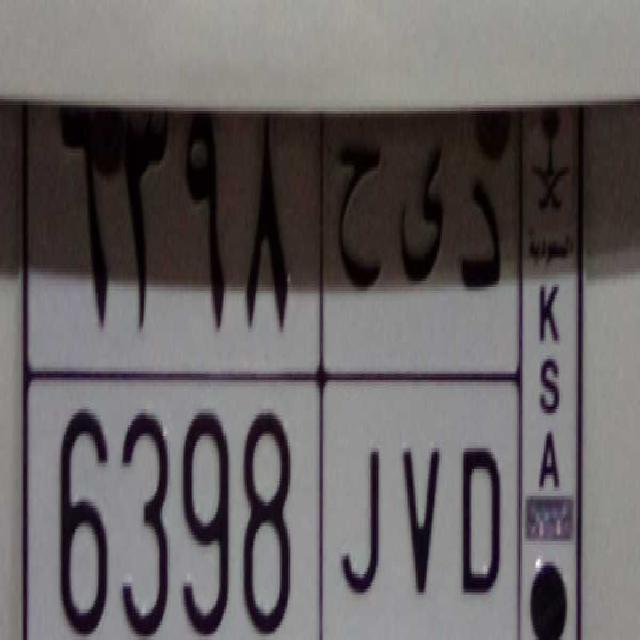license_plate: (56, 350, 510, 640)
